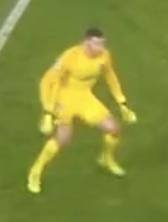goalkeeper: (14, 19, 149, 202)
